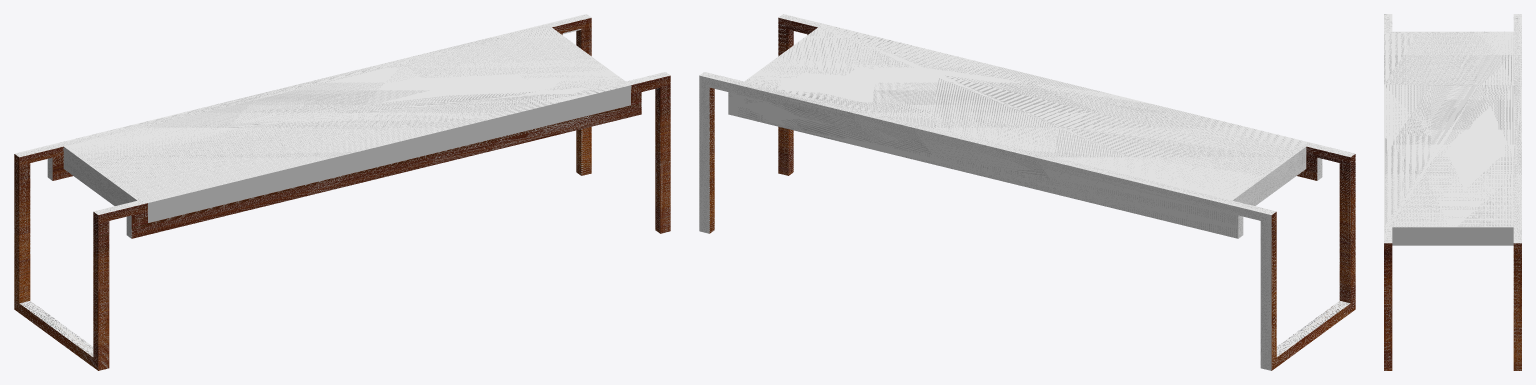
3 renders of one model, left to right at view 1: azimuth 30°, elevation 25°; view 2: azimuth 150°, elevation 25°; view 3: azimuth 270°, elevation 25°, orthographic. The views are drawn at different scales.
Parts seen in each view (by area): view 1: mesh1_mesh1-geometry; view 2: mesh1_mesh1-geometry; view 3: mesh1_mesh1-geometry.
Boxes of the visible parts, bbox=[...] form: mesh1_mesh1-geometry: bbox=[14, 14, 670, 370]; mesh1_mesh1-geometry: bbox=[699, 14, 1355, 370]; mesh1_mesh1-geometry: bbox=[1384, 14, 1521, 370].
Bounding box in the file's own units: 0.9373 × 0.2438 × 0.2385.
